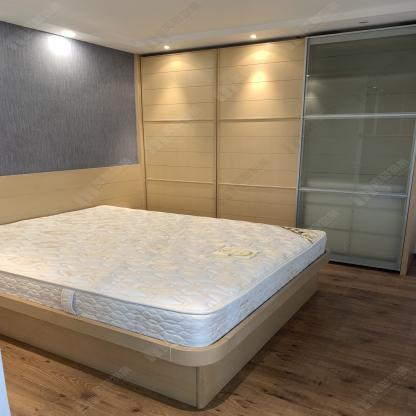Bed: (0, 203, 328, 413)
Closet: (137, 23, 416, 275)
